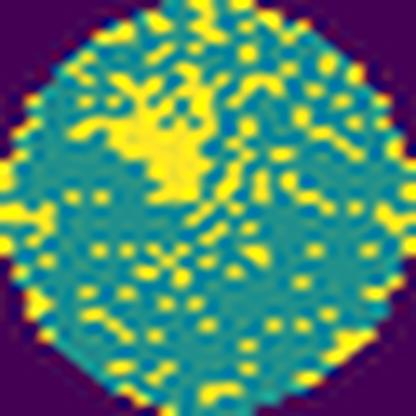Edge-Loc: (65, 61, 230, 207)
